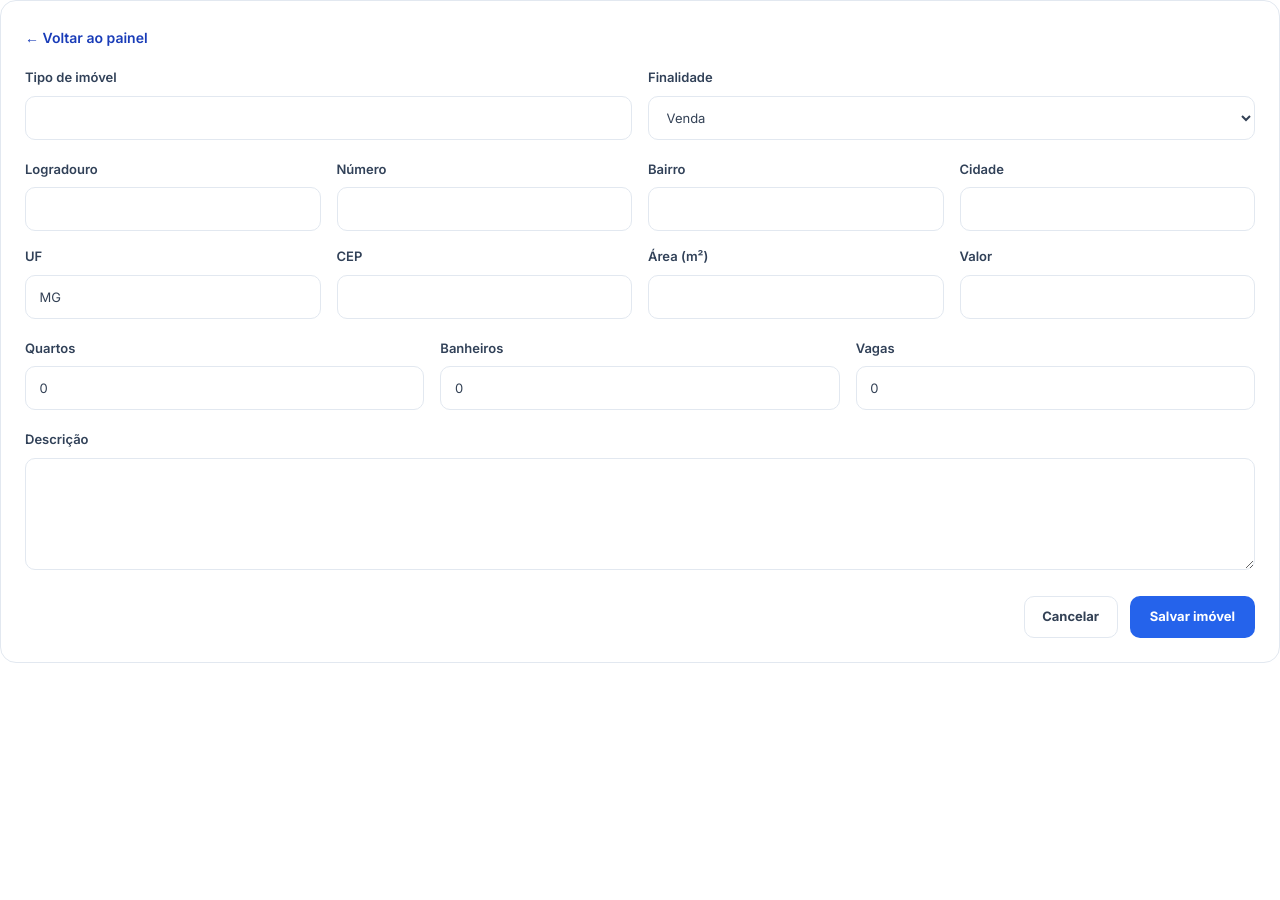
Test: regressões de navegação e proteção de formulário › preserva os dados ao cancelar a saída de um formulário alterado
Later steps or results of the test are not shown.
Type "Apartamento" into the field labelled "Tipo de imóvel" at [328, 118], box [25,96,632,140]
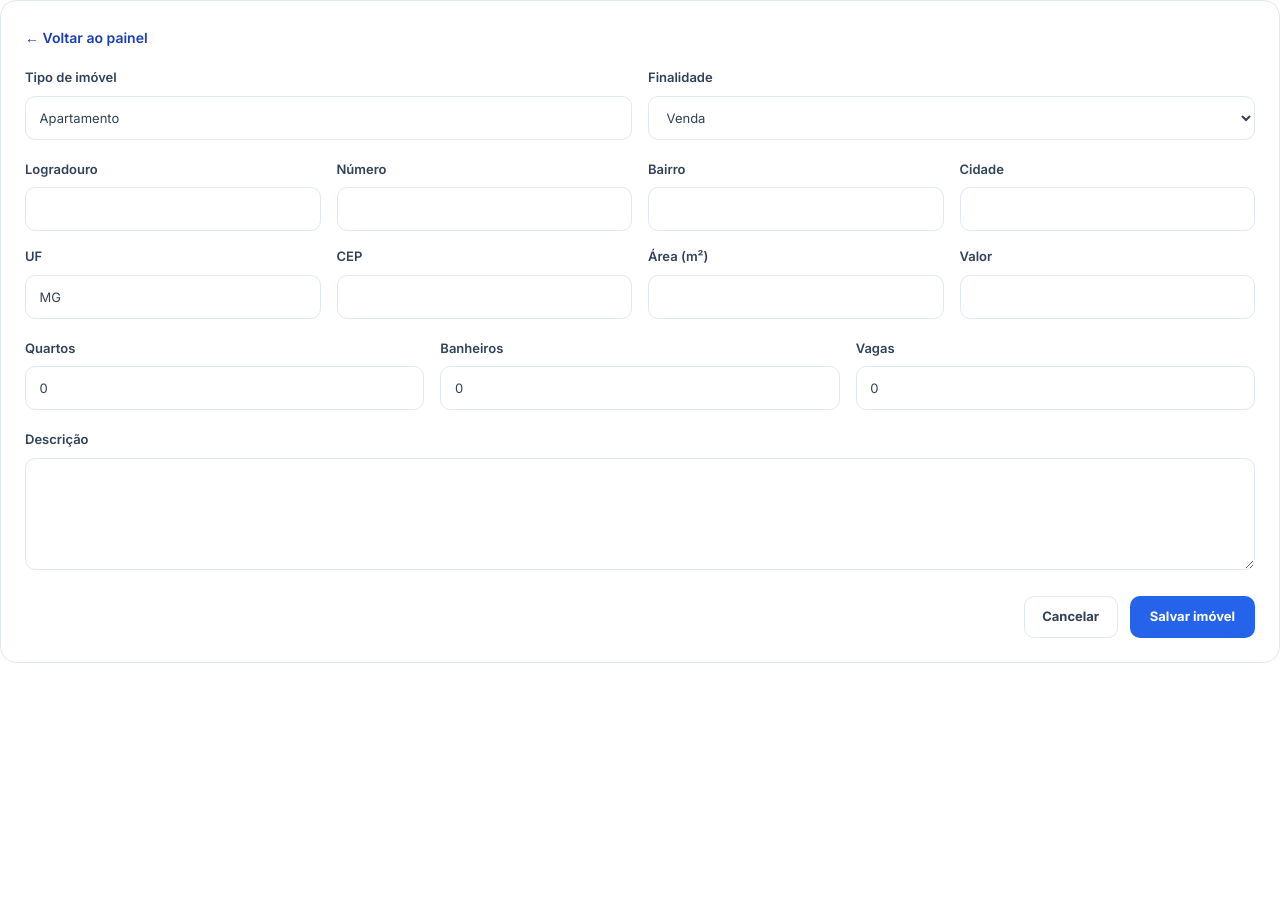
Click the button "← Voltar ao painel" at [86, 38], box [25,28,148,48]
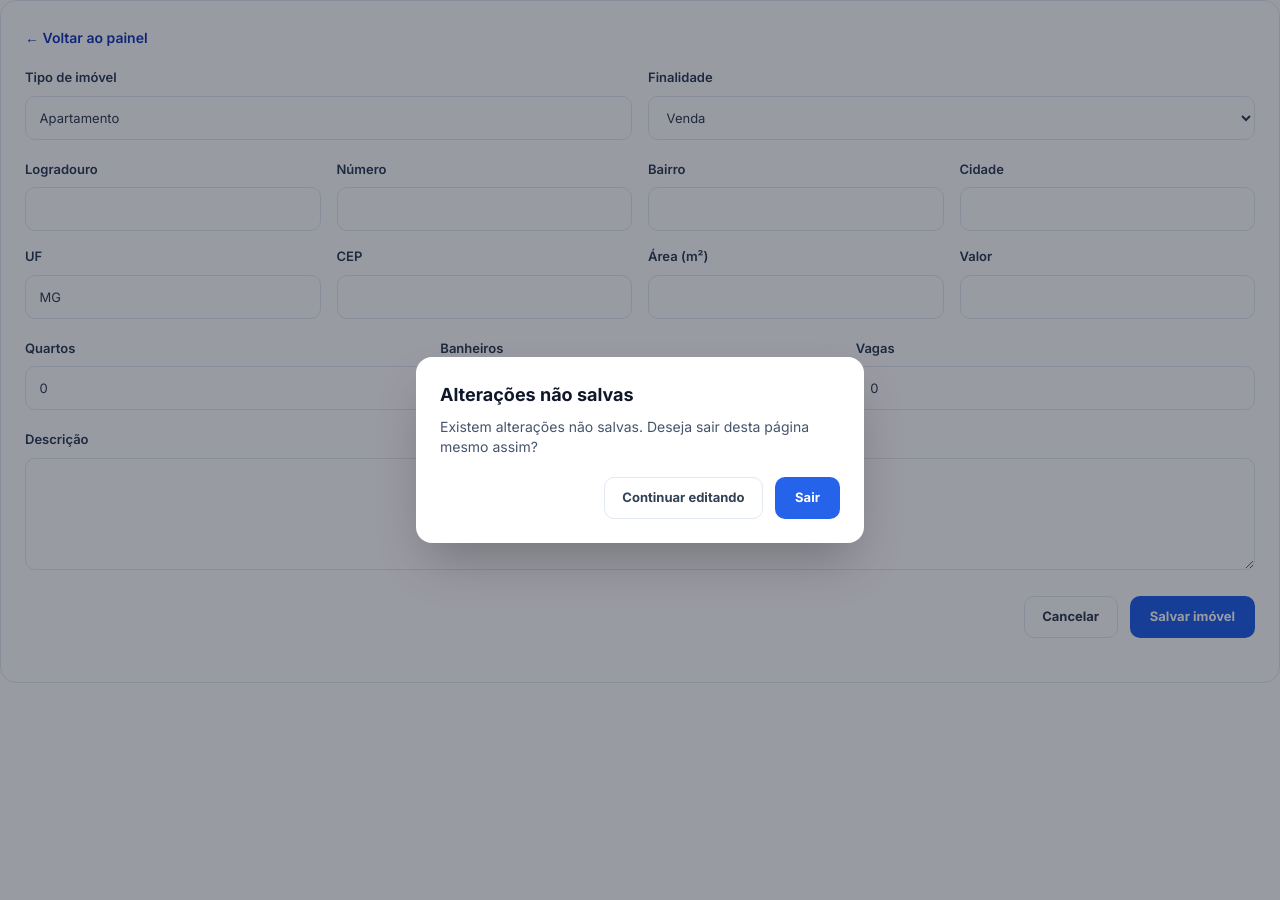
Now the dialog shows "Existem alterações não salvas", box [440,418,809,455]
